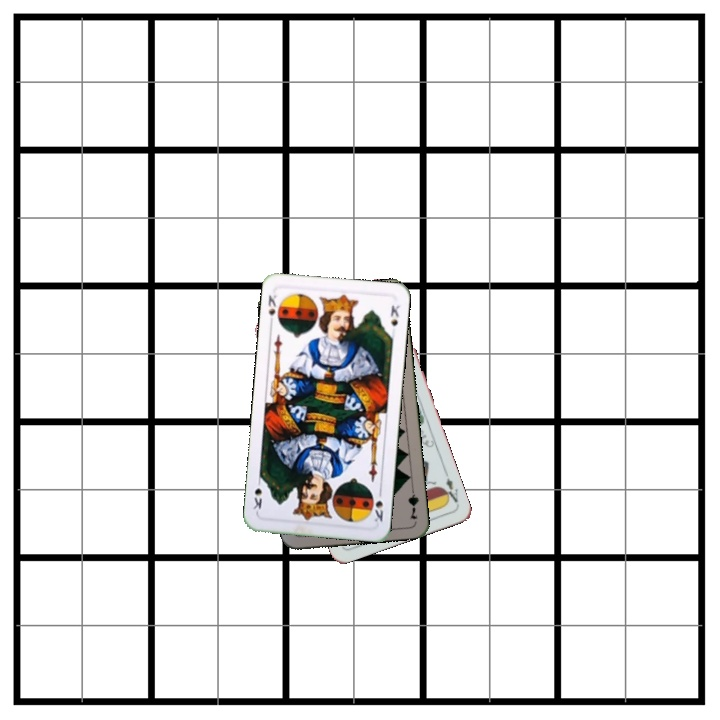EA: (439, 468, 461, 507)
G7: (404, 481, 421, 522)
SK: (370, 485, 386, 524), (264, 291, 279, 328)
